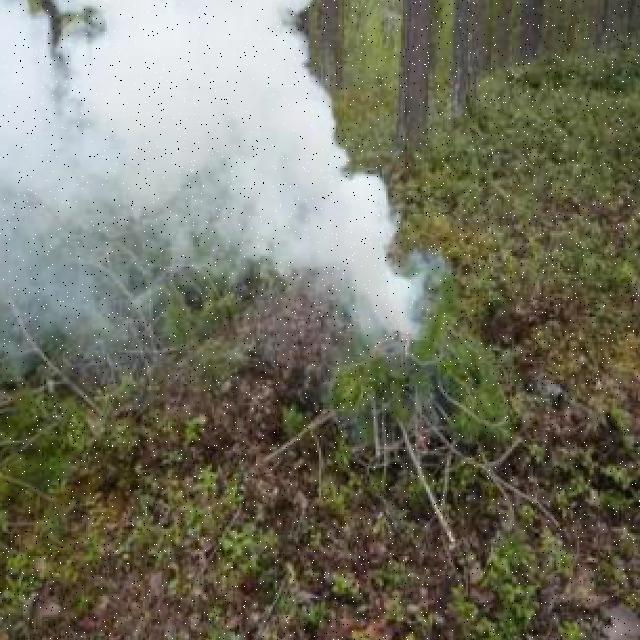smoke: (121, 0, 442, 360)
